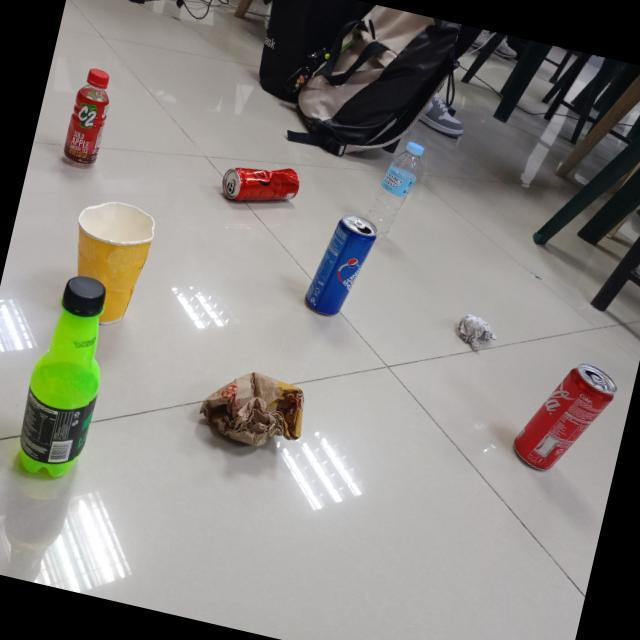recyclable waste: (0, 261, 131, 491), (502, 344, 626, 488), (49, 188, 165, 338), (183, 351, 319, 466), (296, 200, 384, 330), (355, 128, 431, 246), (54, 58, 122, 175), (213, 150, 308, 220), (446, 305, 504, 360)
